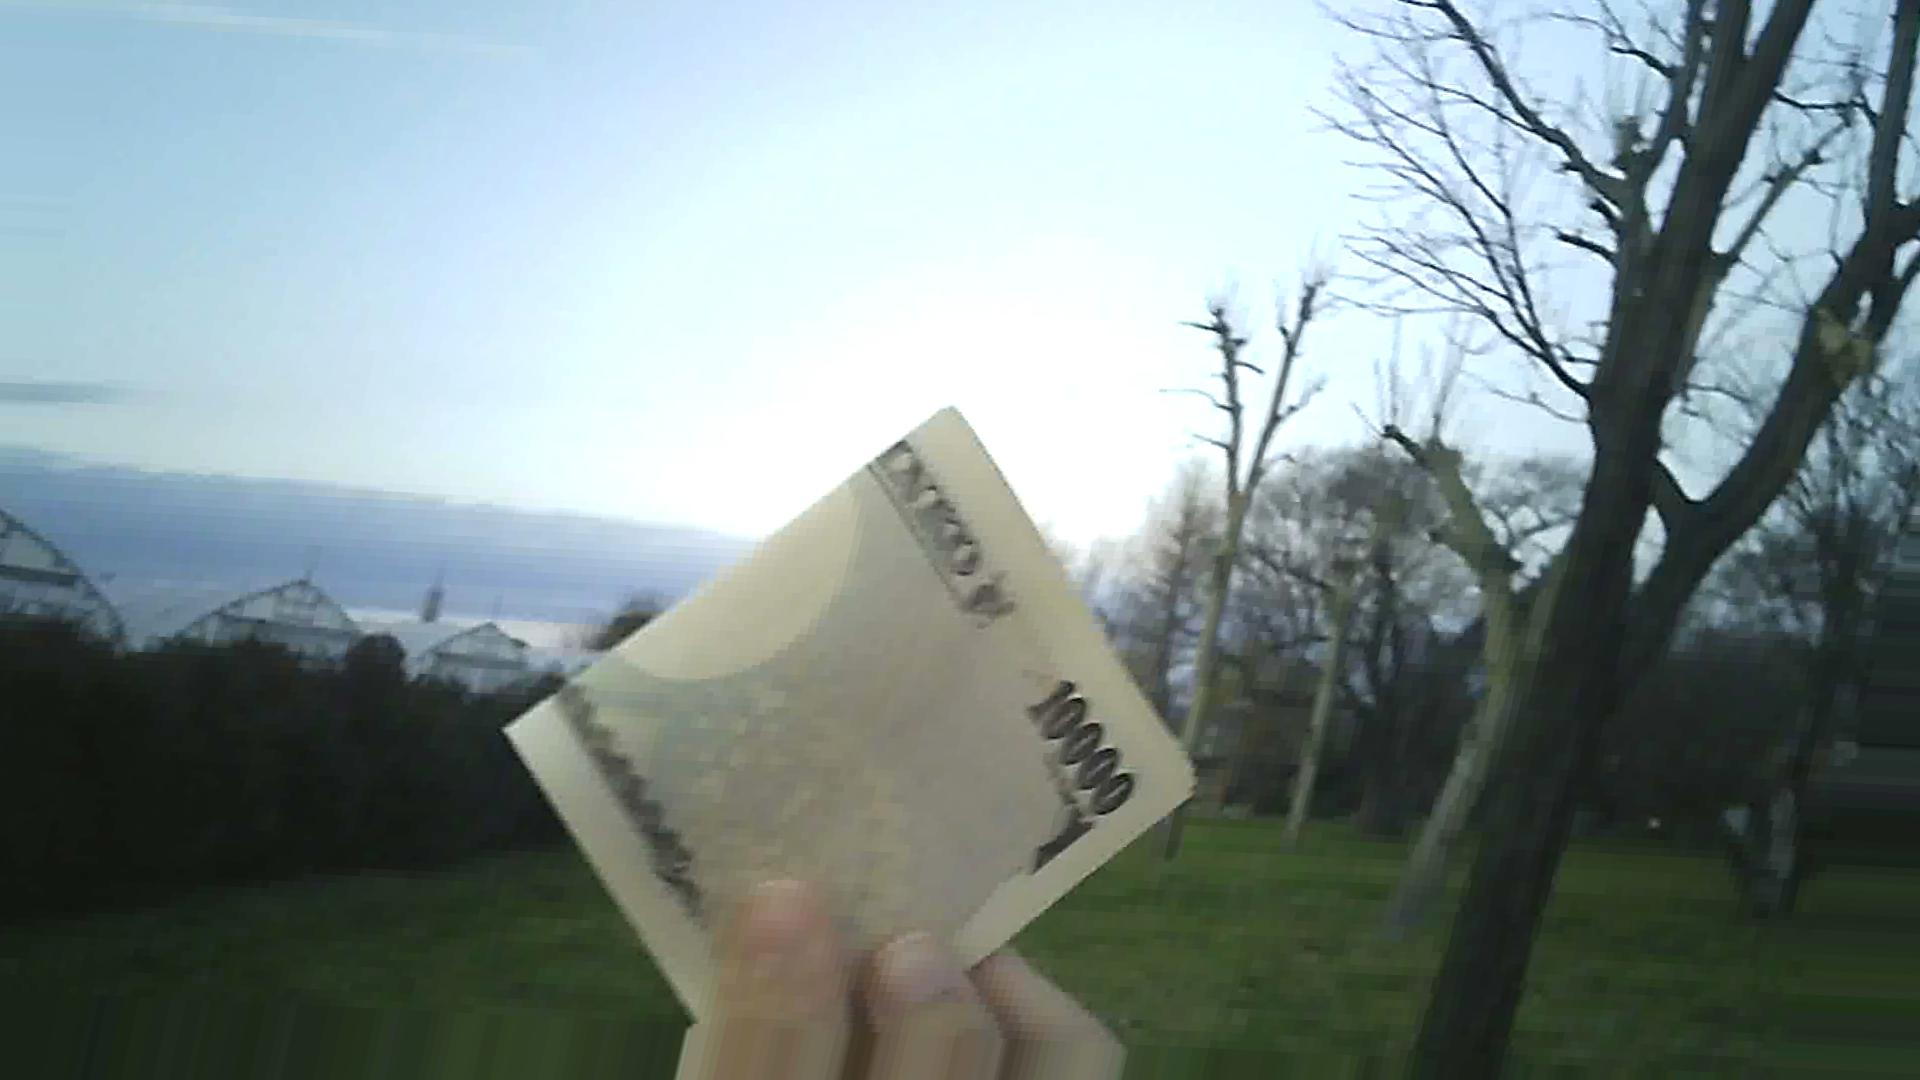10,000 Yen: (483, 411, 1160, 1002)
